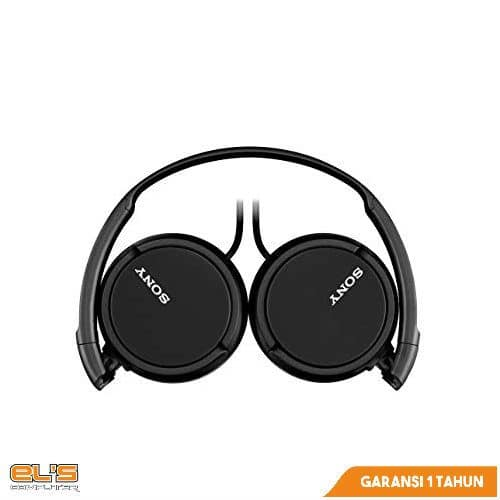Headphone: (63, 140, 431, 403)
